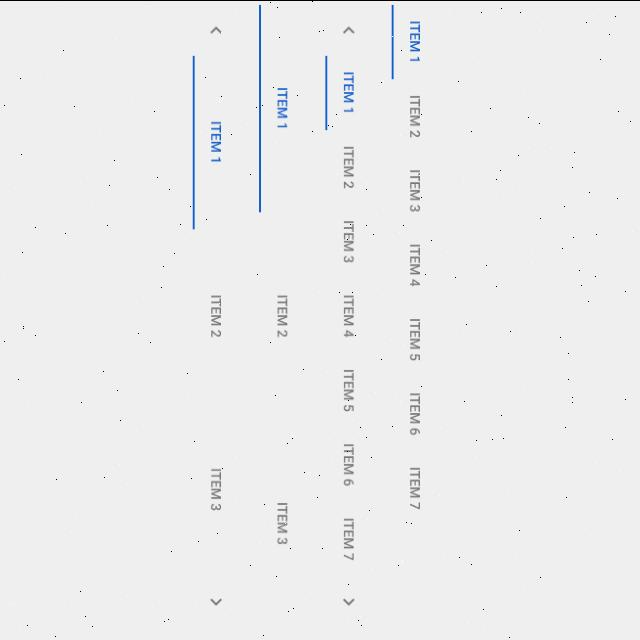QLabel: (408, 18, 424, 62), (409, 92, 423, 138), (409, 464, 423, 510), (343, 292, 357, 338), (343, 366, 357, 412), (343, 440, 357, 486), (276, 292, 290, 338), (342, 516, 356, 560), (276, 500, 290, 544), (410, 166, 422, 212), (277, 84, 289, 130), (211, 119, 223, 163), (344, 145, 356, 189), (410, 316, 422, 360), (410, 390, 422, 434), (410, 242, 422, 284), (344, 219, 356, 261), (344, 70, 356, 112), (212, 294, 222, 336), (212, 466, 222, 508)
VIcon: (344, 594, 356, 606), (342, 24, 356, 34), (210, 24, 222, 34), (210, 596, 222, 606)
VTabs: (322, 0, 368, 610), (190, 19, 234, 614), (257, 1, 299, 599), (391, 1, 431, 530)
